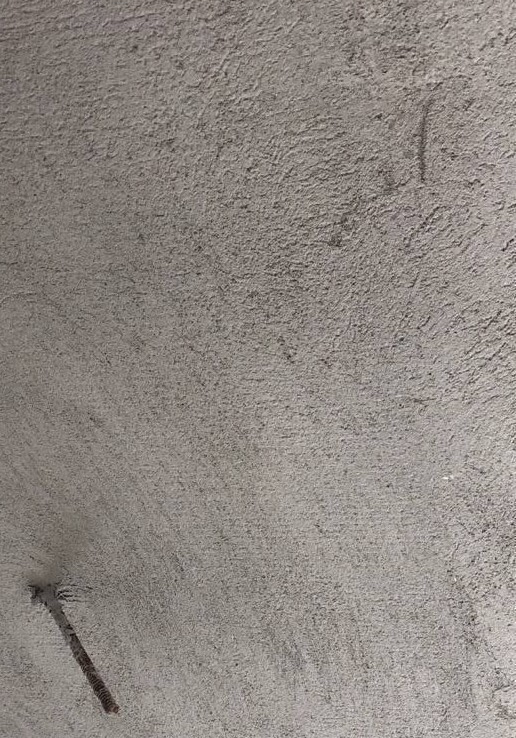Exposed reinforcement: (37, 585, 120, 714)
